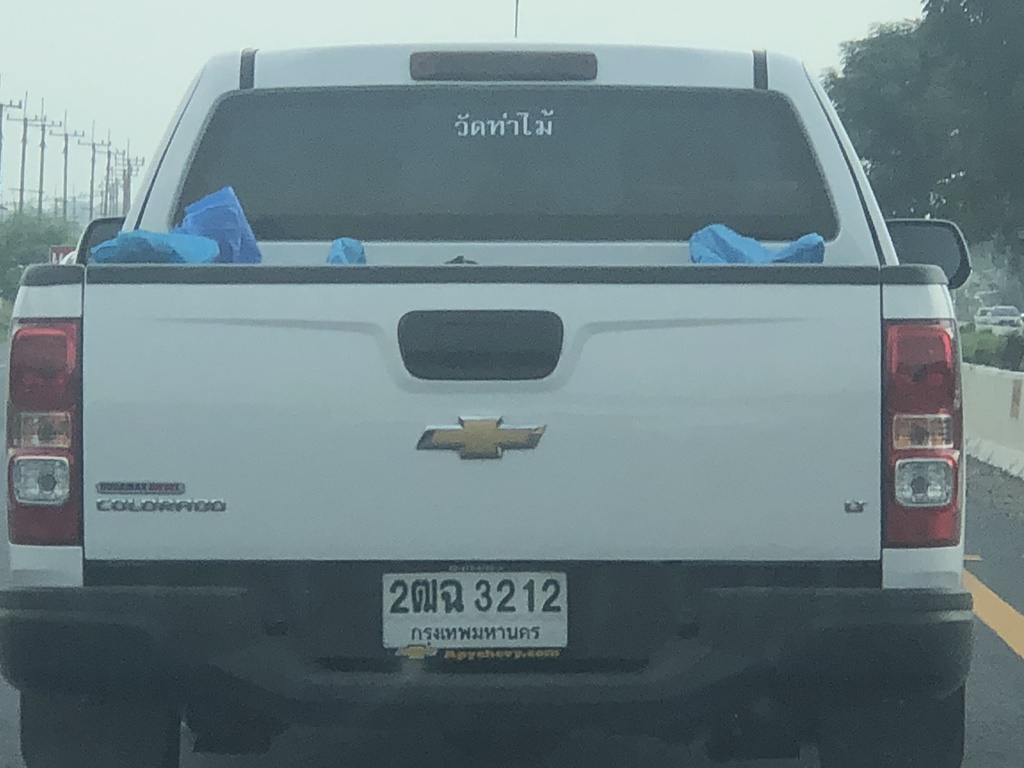plate: (375, 566, 574, 655)
